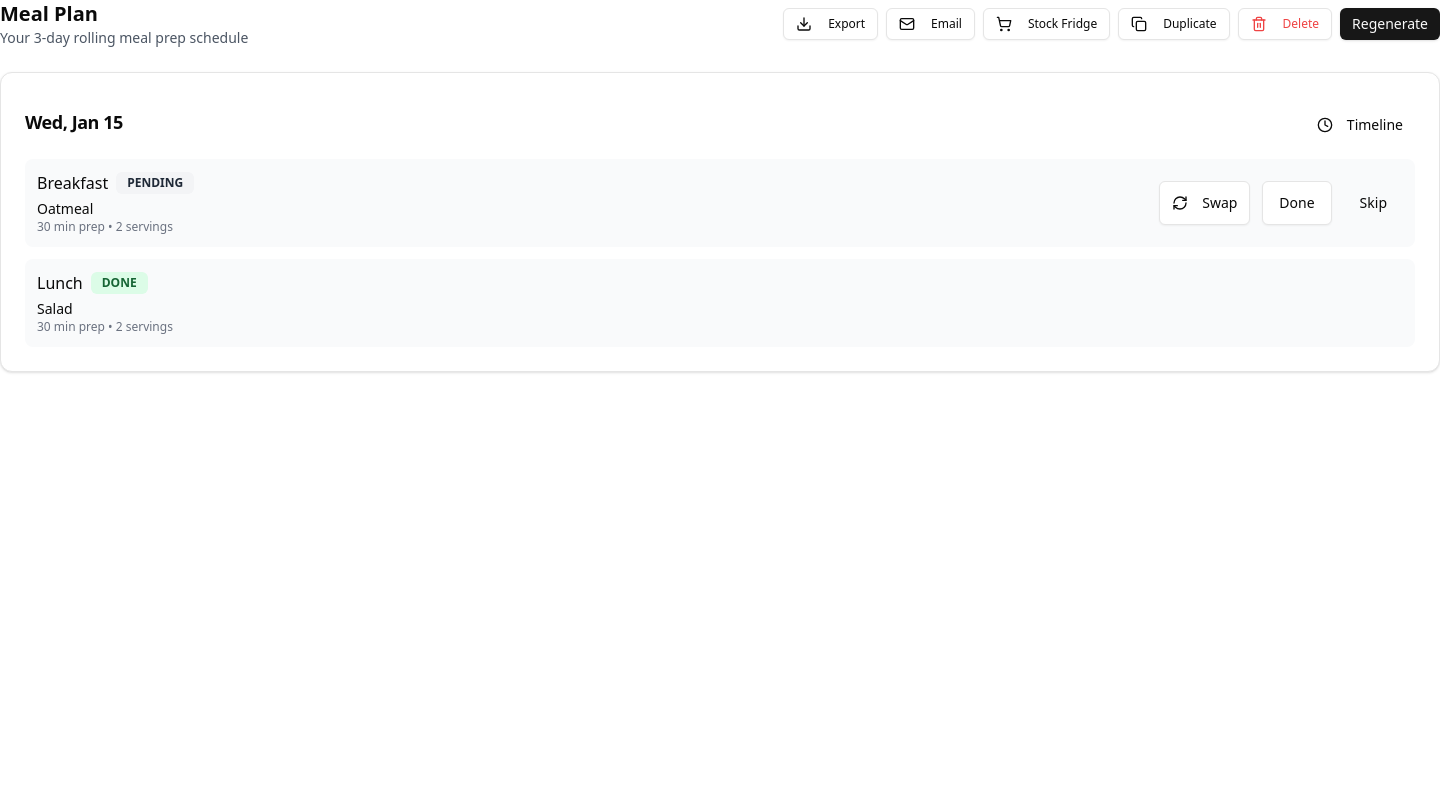
PlanView › swap meal action › should open swap dialog when Swap button is clicked
This screenshot has width=1440, height=810.
Click the button with aria-label "swap breakfast recipe": (1205, 203) [1159,181,1250,225]
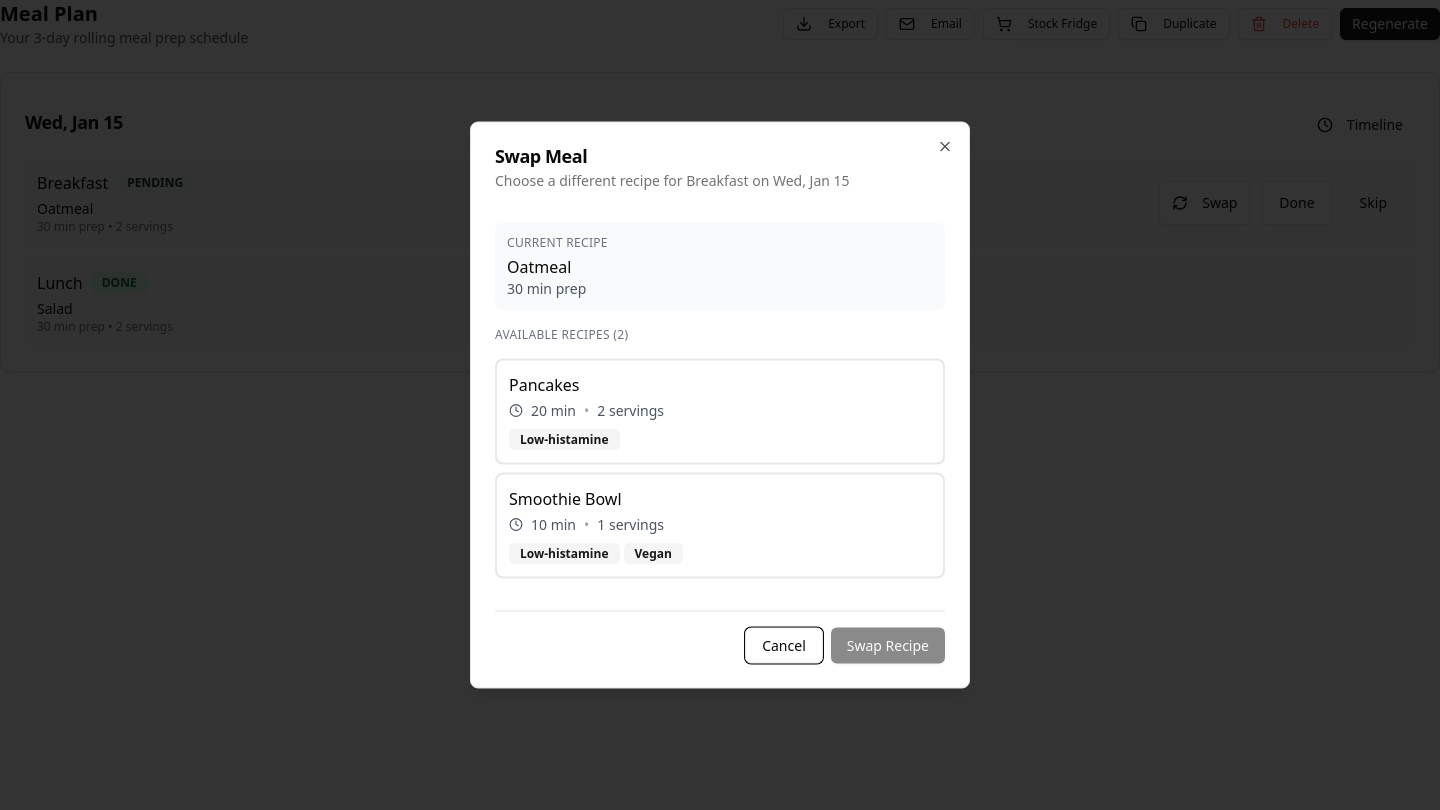
Now the dialog is shown, box [470,122,970,688]
Now the heading "Swap Meal" is shown, box [495,144,587,168]
